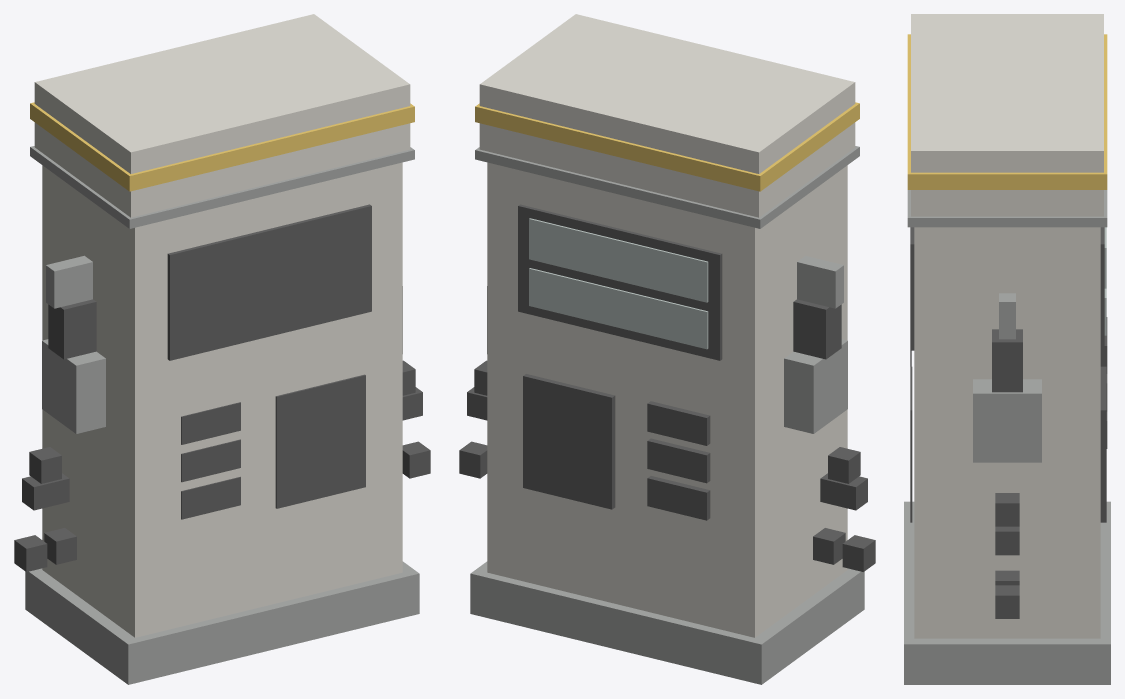
Rendered from pump.glb.
3 views of the same model, side by side, from view 1: azimuth 30°, elevation 25°; view 2: azimuth 150°, elevation 25°; view 3: azimuth 270°, elevation 25° (orthographic).
Visible parts, largest first — view 1: NC_pump; view 2: NC_pump; view 3: NC_pump.
Part boxes in pixels (left/top/right/bottom): NC_pump: left=14, top=14, right=430, bottom=684; NC_pump: left=459, top=14, right=875, bottom=684; NC_pump: left=904, top=14, right=1110, bottom=684.
Size of the model in its own units: 1.36 by 1.7 by 0.6.
